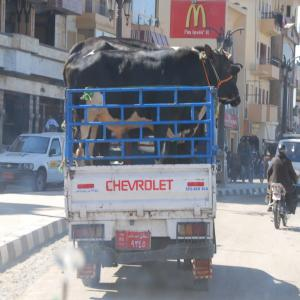Vehicle-registration-plate: (116, 230, 152, 250), (2, 173, 14, 180), (273, 195, 282, 201)
